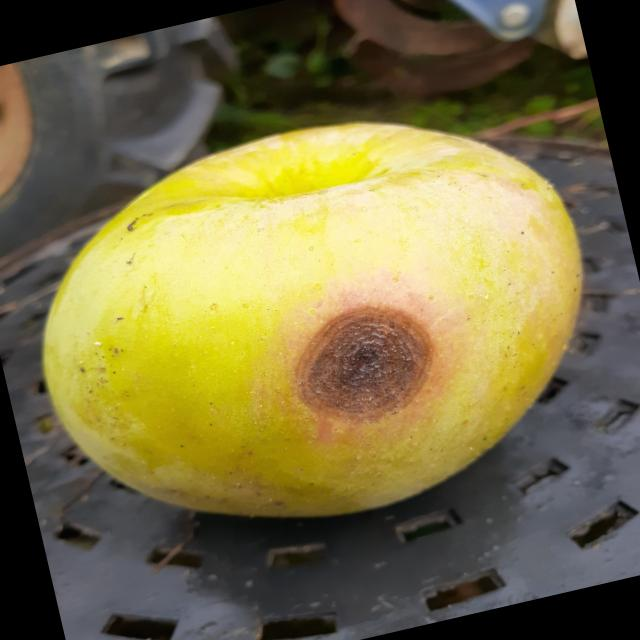rotten: (1, 58, 640, 585)
